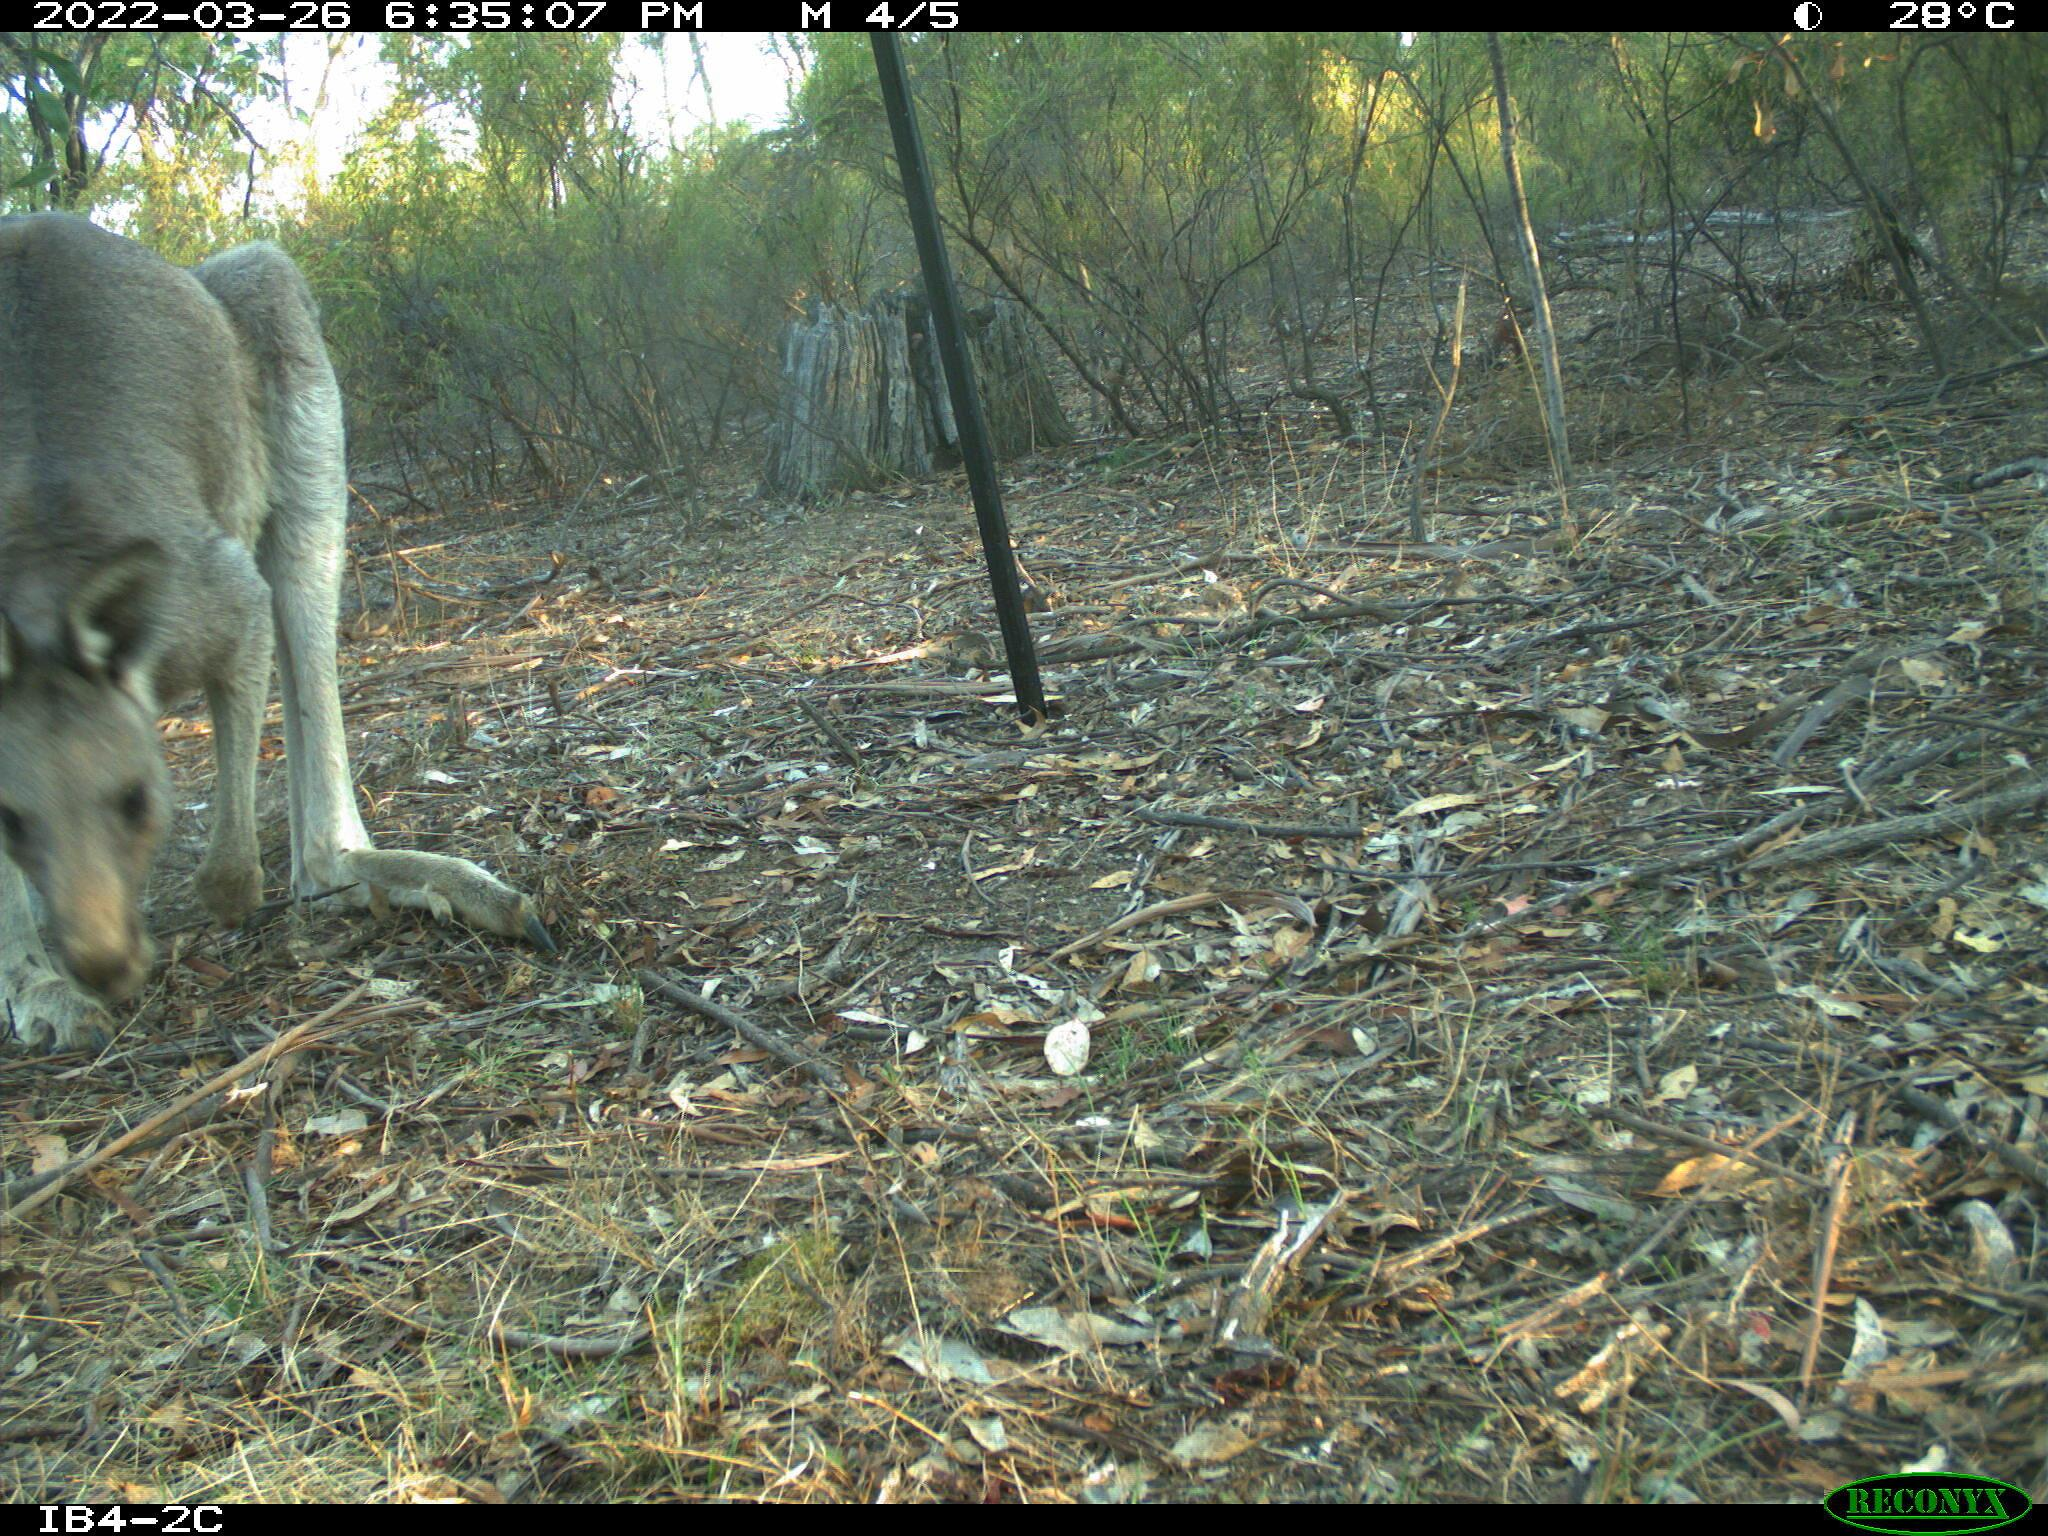Eastern grey kangaroo: (0, 216, 553, 1033)
